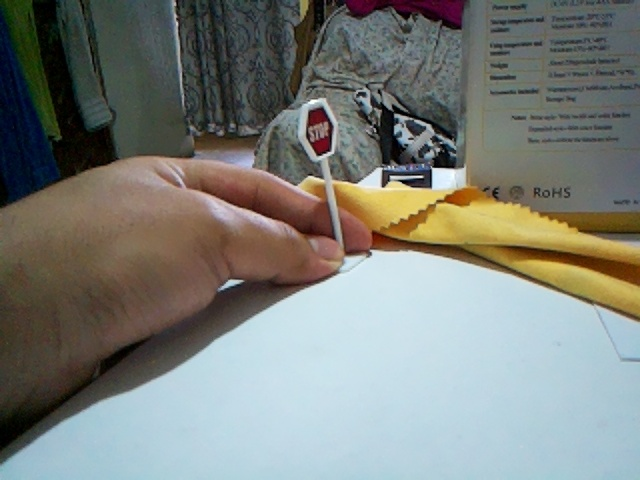stop_sign: (298, 98, 343, 245)
